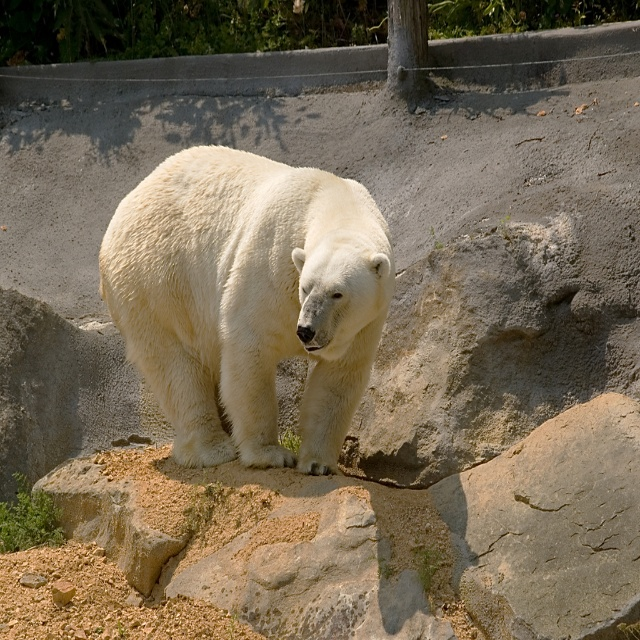Polar bear: (94, 138, 398, 472)
